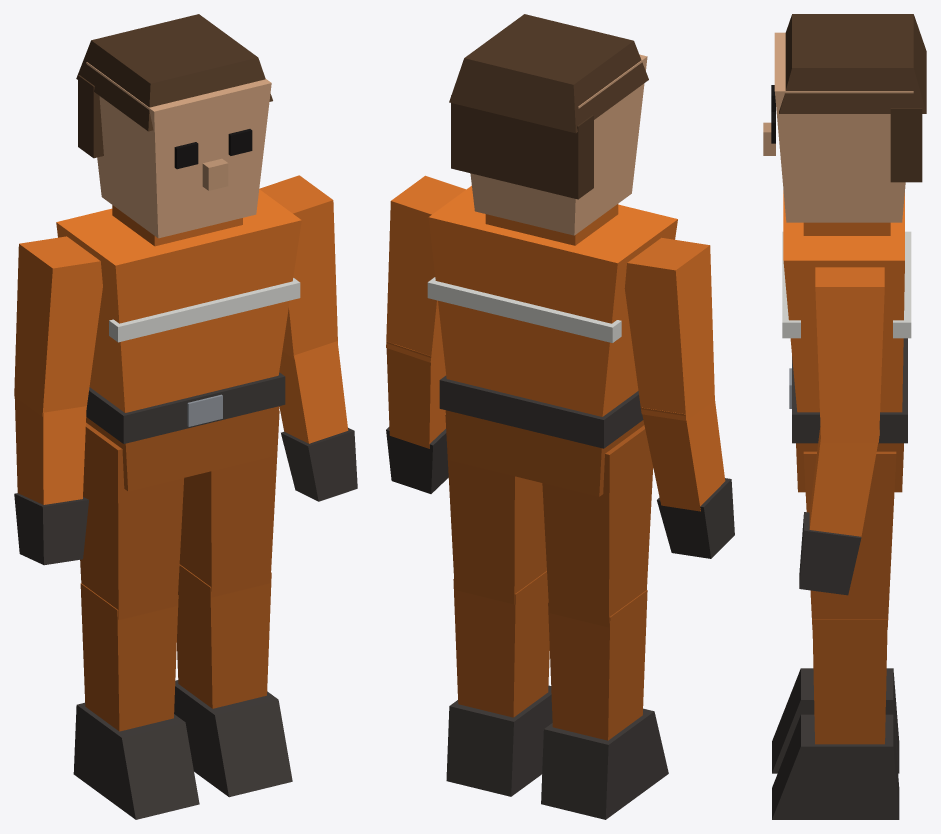
File: character_pose_0.obj
3 views of the same model, side by side, from view 1: azimuth 30°, elevation 25°; view 2: azimuth 150°, elevation 25°; view 3: azimuth 270°, elevation 25° (orthographic). The views are drawn at different scales.
Size of the model in its own units: 0.6424 by 1.41 by 0.2825.
